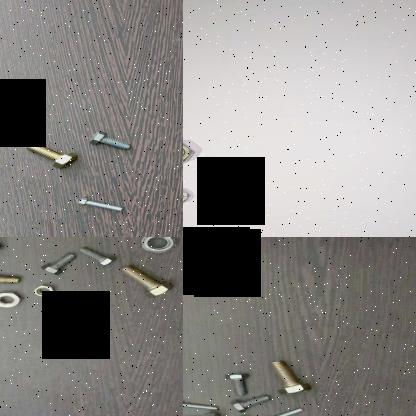Bolts: (21, 141, 80, 173), (264, 359, 314, 395), (120, 266, 174, 298), (81, 129, 134, 153), (74, 196, 132, 216), (33, 253, 78, 277), (228, 396, 274, 414), (78, 247, 116, 268), (224, 369, 250, 398), (0, 266, 23, 289), (263, 405, 303, 416), (183, 399, 217, 411)
NUTS: (136, 237, 177, 254), (0, 290, 22, 310), (31, 284, 59, 298), (183, 141, 197, 167), (183, 187, 194, 205)
